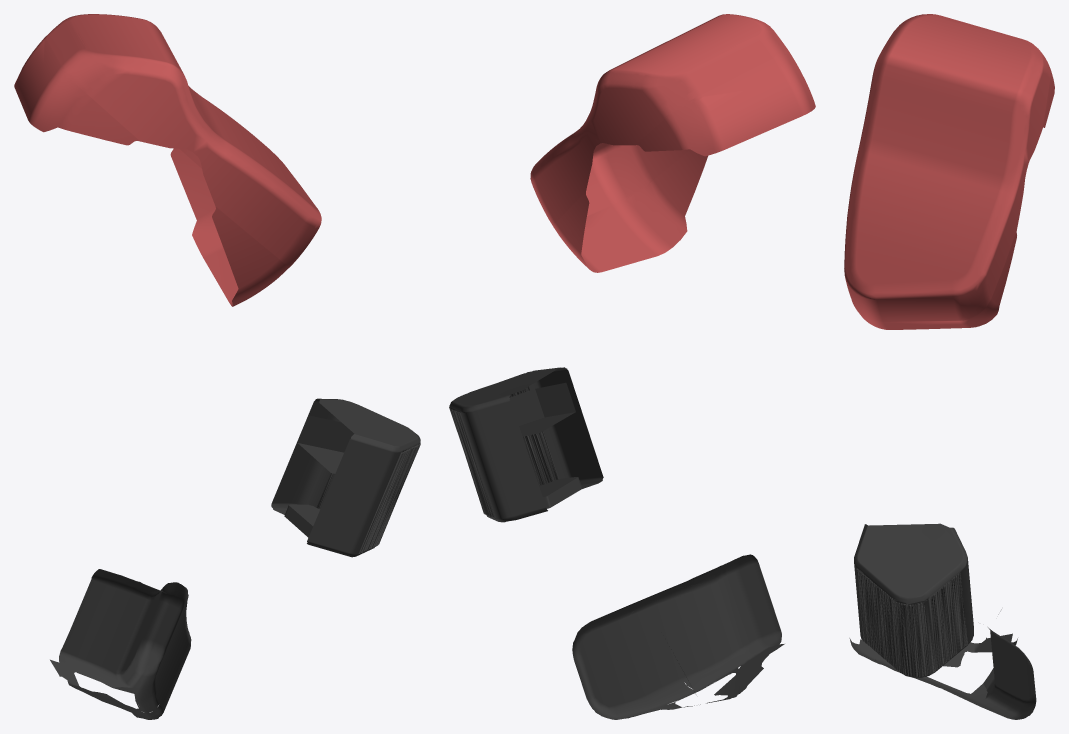
The model's file is RH_switch_T.glb.
The picture shows the model from 3 angles, left to right: view 1: azimuth 30°, elevation 25°; view 2: azimuth 150°, elevation 25°; view 3: azimuth 270°, elevation 25°; orthographic projection. The views are drawn at different scales.
Visible parts, largest first — view 1: RH_switch_enginestop, RH_switch_hazard, RH_switch_estart; view 2: RH_switch_enginestop, RH_switch_estart, RH_switch_hazard; view 3: RH_switch_enginestop, RH_switch_hazard, RH_switch_estart.
Boxes of the visible parts, x1,y1,x2,y2 form: RH_switch_enginestop: (14,14,321,306); RH_switch_hazard: (271,398,420,557); RH_switch_estart: (50,569,191,719); RH_switch_enginestop: (530,14,815,272); RH_switch_estart: (572,554,784,719); RH_switch_hazard: (449,367,603,522); RH_switch_enginestop: (844,14,1054,329); RH_switch_hazard: (854,523,973,677); RH_switch_estart: (849,609,1036,719).
Bounding box in the file's own units: 0.0417 × 0.0729 × 0.0213.
